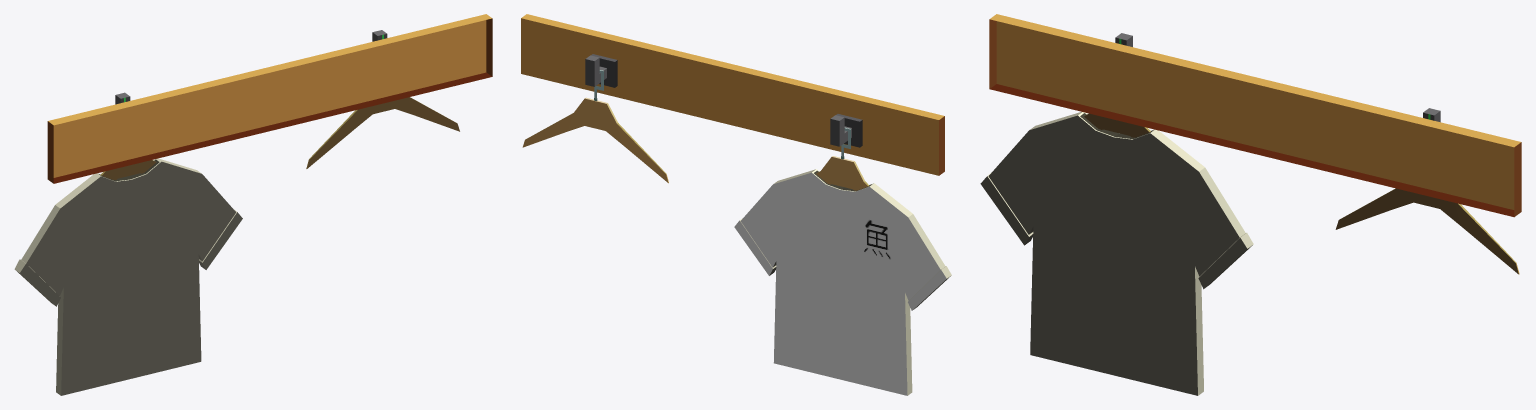
The model's file is habits 2.fbx.
3 renders of one model, left to right at view 1: azimuth 30°, elevation 25°; view 2: azimuth 150°, elevation 25°; view 3: azimuth 330°, elevation 25°, orthographic. The views are drawn at different scales.
Visible parts, largest first — view 1: T shirt.001, Porte manteau mural, Cyntre.001, Cyntre; view 2: T shirt.001, Porte manteau mural, Cyntre.001, Porte manteau mural.001, Cyntre; view 3: T shirt.001, Porte manteau mural, Cyntre.001, Cyntre.
Boxes of the visible parts, box(x1,y1,x2,y2) form: T shirt.001: box(14, 158, 242, 395); Porte manteau mural: box(47, 14, 492, 183); Cyntre.001: box(306, 97, 459, 168); Cyntre: box(100, 160, 156, 179); T shirt.001: box(734, 169, 951, 395); Porte manteau mural: box(521, 14, 944, 175); Cyntre.001: box(522, 70, 668, 183); Porte manteau mural.001: box(585, 54, 862, 147); Cyntre: box(816, 127, 869, 190); T shirt.001: box(980, 111, 1253, 395); Porte manteau mural: box(989, 14, 1521, 217); Cyntre.001: box(1335, 188, 1519, 274); Cyntre: box(1084, 113, 1150, 137).
Bounding box in the file's own units: 321 × 190 × 29.56.
